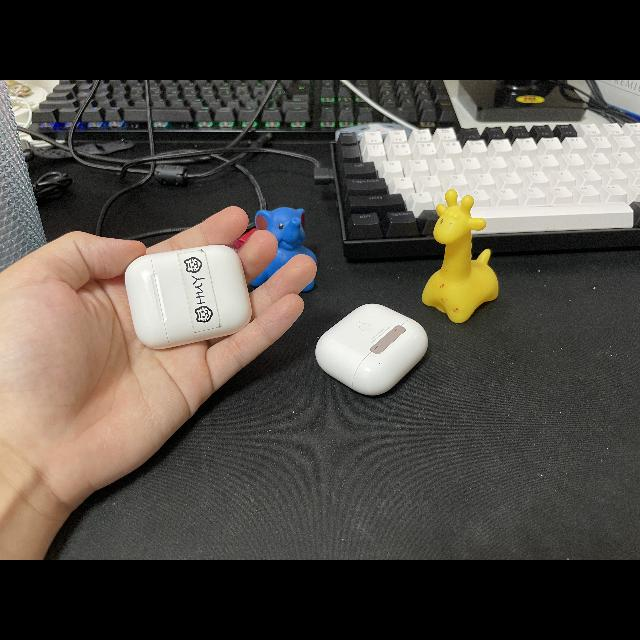airpod2: (119, 242, 258, 354)
airpod3: (306, 296, 432, 398)
